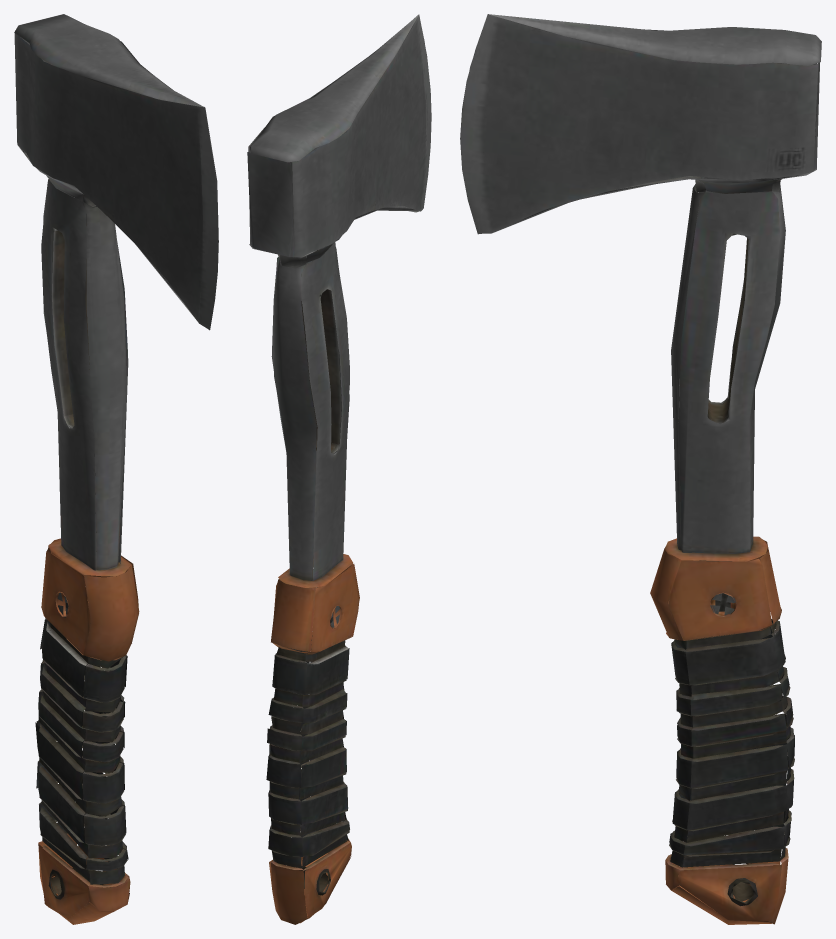
File: hatchet.glb
3 views of the same model, side by side, from view 1: azimuth 30°, elevation 25°; view 2: azimuth 150°, elevation 25°; view 3: azimuth 270°, elevation 25° (orthographic). The views are drawn at different scales.
Parts seen in each view (by area): view 1: hatchet; view 2: hatchet; view 3: hatchet.
Boxes of the visible parts, bbox=[...] form: hatchet: bbox=[14, 14, 218, 924]; hatchet: bbox=[247, 14, 431, 924]; hatchet: bbox=[460, 14, 821, 924].
Size of the model in its own units: 0.0261 by 0.2884 by 0.1043.
1 material, 1 textured.
